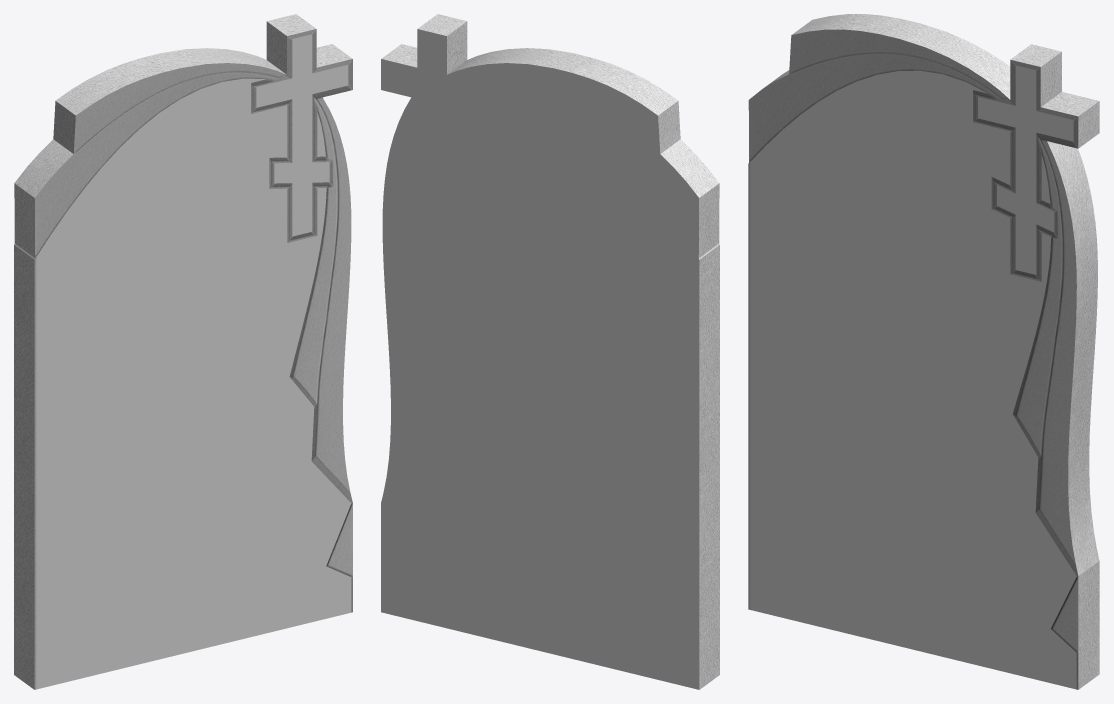
Rendered from cn8ce156f54a_tkf.glb.
The picture shows the model from 3 angles, left to right: view 1: azimuth 30°, elevation 25°; view 2: azimuth 150°, elevation 25°; view 3: azimuth 330°, elevation 25°; orthographic projection. The views are drawn at different scales.
Parts seen in each view (by area): view 1: Pam-d03-304, Pam-d03-304_2_notexture; view 2: Pam-d03-304, Pam-d03-304_2_notexture; view 3: Pam-d03-304, Pam-d03-304_2_notexture.
Boxes of the visible parts, box(x1,y1,x2,y2) form: Pam-d03-304: box(36, 34, 351, 689); Pam-d03-304_2_notexture: box(14, 14, 352, 689); Pam-d03-304: box(381, 29, 699, 689); Pam-d03-304_2_notexture: box(381, 14, 719, 689); Pam-d03-304: box(750, 65, 1076, 689); Pam-d03-304_2_notexture: box(748, 14, 1099, 689).
Bounding box in the file's own units: 0.45 × 0.8 × 0.05.
Materials: 1 (1 with a texture image).
